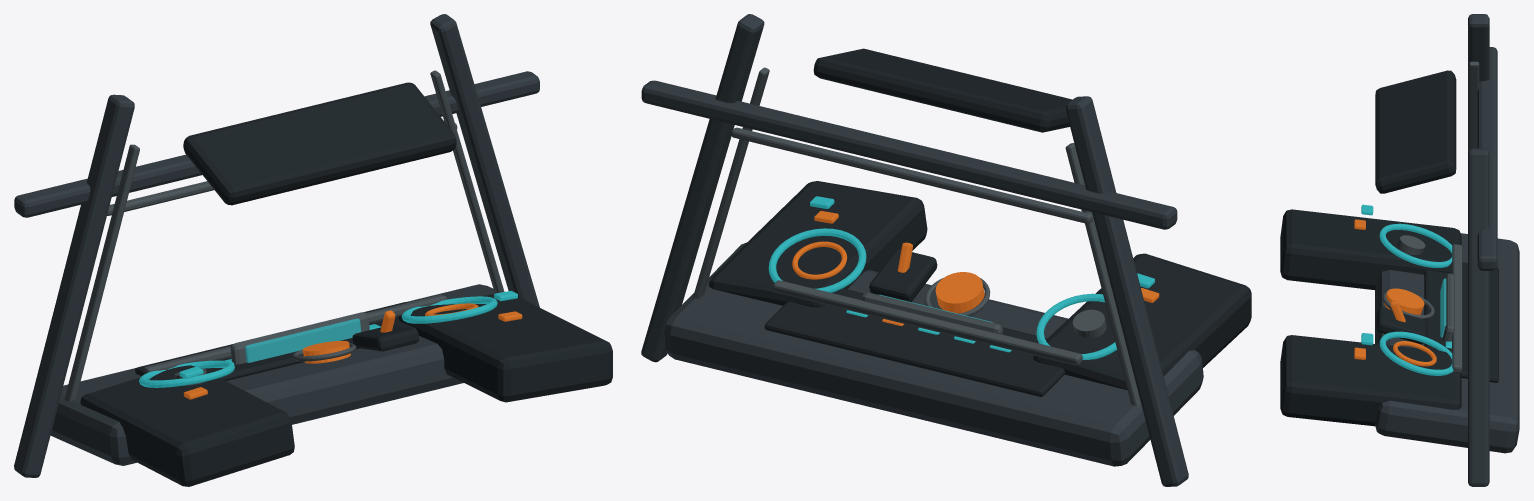
Rendered from cockpit_blockout.glb.
3 views of the same model, side by side, from view 1: azimuth 30°, elevation 25°; view 2: azimuth 150°, elevation 25°; view 3: azimuth 270°, elevation 25° (orthographic). The views are drawn at different scales.
Parts seen in each view (by area): view 1: OverheadPanel, SideConsole_-1, DashboardLower, SideConsole_+1, CanopyStrut_-1, CanopyStrut_+1, CanopyCrossbar, CanopyInnerStrut_-1, CanopyInnerStrut_+1, ScannerDisplay, DashboardInset, DashboardLip (+6 smaller); view 2: DashboardLower, SideConsole_+1, CanopyCrossbar, SideConsole_-1, DashboardInset, CanopyStrut_-1, OverheadPanel, CanopyStrut_+1, DashboardLip, CanopyInnerBrace, CanopyInnerStrut_-1, CanopyInnerStrut_+1 (+7 smaller); view 3: SideConsole_+1, DashboardLower, SideConsole_-1, OverheadPanel, CanopyStrut_+1, CanopyCrossbar, DashboardInset, CanopyStrut_-1, DashboardLip, VectorCageRing, AttitudeRing, LockSwitchBase (+7 smaller).
Boxes of the visible parts, x1,y1,x2,y2 form: OverheadPanel: (183, 82, 456, 205); SideConsole_-1: (80, 365, 294, 486); DashboardLower: (50, 284, 494, 465); SideConsole_+1: (398, 294, 612, 402); CanopyStrut_-1: (14, 94, 134, 477); CanopyStrut_+1: (430, 14, 539, 307); CanopyCrossbar: (14, 71, 539, 217); CanopyInnerStrut_-1: (64, 144, 139, 401); CanopyInnerStrut_+1: (430, 70, 504, 293); ScannerDisplay: (245, 318, 361, 362); DashboardInset: (135, 302, 415, 380); DashboardLip: (143, 294, 446, 374); DashboardLower: (664, 242, 1203, 466); SideConsole_+1: (709, 181, 927, 307); CanopyCrossbar: (641, 80, 1177, 229); SideConsole_-1: (1033, 253, 1251, 390); DashboardInset: (764, 288, 1065, 396); CanopyStrut_-1: (1065, 96, 1188, 486); OverheadPanel: (813, 48, 1072, 132); CanopyStrut_+1: (641, 14, 764, 362); DashboardLip: (773, 280, 1082, 365); CanopyInnerBrace: (731, 127, 1092, 223); CanopyInnerStrut_-1: (1065, 143, 1141, 406); CanopyInnerStrut_+1: (692, 67, 769, 298); SideConsole_+1: (1280, 335, 1461, 426); DashboardLower: (1375, 233, 1519, 453); SideConsole_-1: (1280, 209, 1461, 289); OverheadPanel: (1375, 70, 1456, 193); CanopyStrut_+1: (1468, 148, 1489, 486); CanopyCrossbar: (1477, 47, 1497, 270); DashboardInset: (1424, 262, 1498, 382); CanopyStrut_-1: (1468, 14, 1489, 151); DashboardLip: (1452, 244, 1462, 373); VectorCageRing: (1379, 223, 1452, 267); AttitudeRing: (1379, 331, 1453, 375); LockSwitchBase: (1376, 307, 1426, 344).
Bounding box in the file's own units: 5.71 × 3.68 × 2.66.
